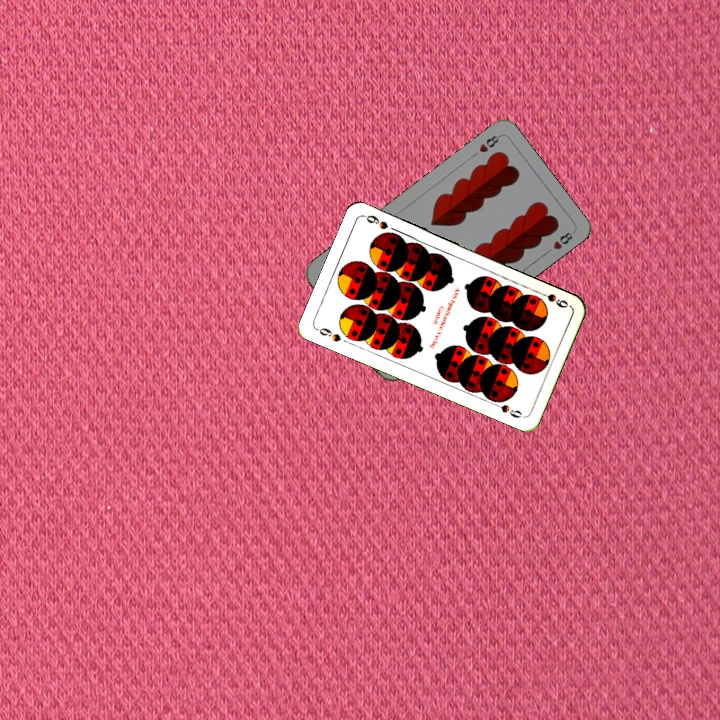H8: (475, 131, 503, 155)
S9: (533, 287, 571, 311), (312, 324, 344, 344)
